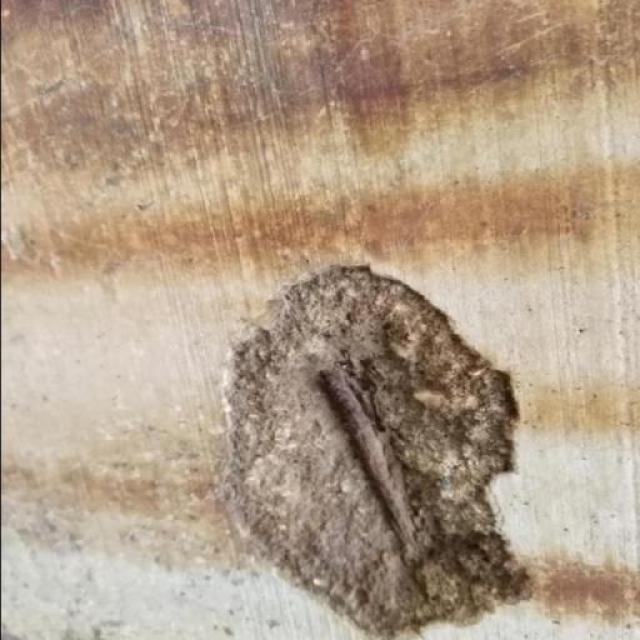D10: (214, 262, 530, 639)
